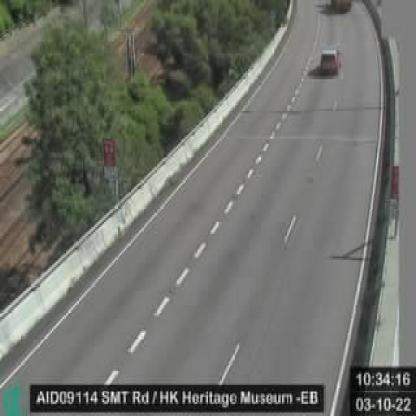Car: (321, 50, 339, 75)
